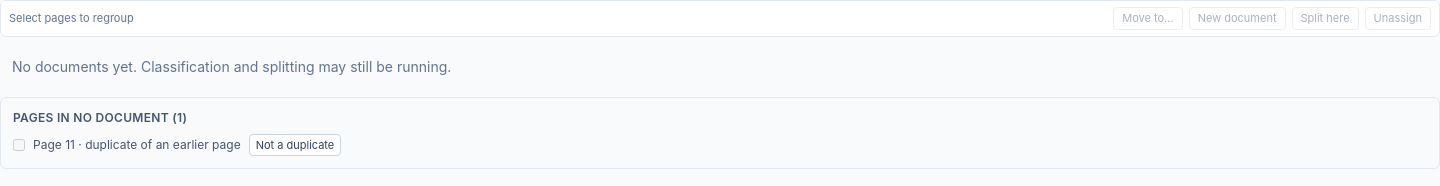
it: DocumentList — verdict override in the tray › makes the page selectable once its verdict is overridden
Expected: the checkbox with test id "page-checkbox-pDup" is disabled, left=13, top=139, right=25, bottom=151
Step 1. Click the button with test id "verdict-not-duplicate-pDup" → click(295, 145), box left=249, top=134, right=341, bottom=156
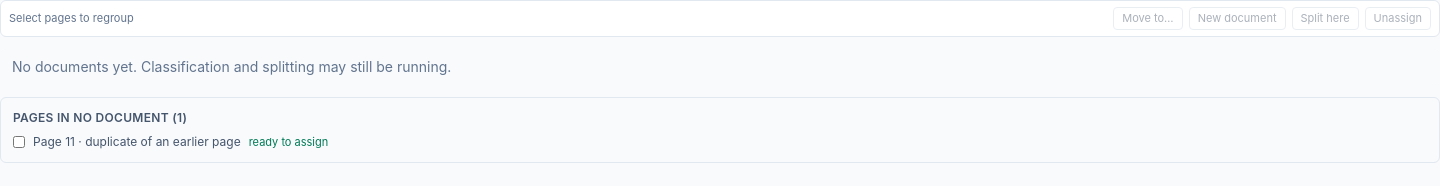
Result: the checkbox with test id "page-checkbox-pDup" is enabled at left=13, top=136, right=25, bottom=148
Result: the button with test id "verdict-not-duplicate-pDup" is gone
